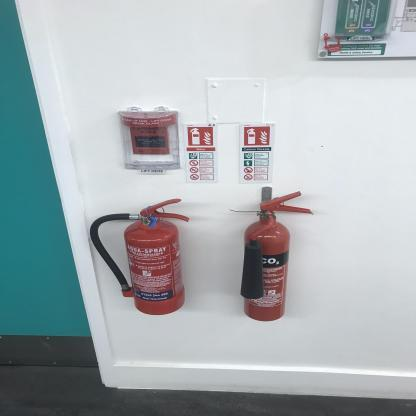Fire Extinguisher: (81, 188, 200, 332), (226, 178, 317, 330)
